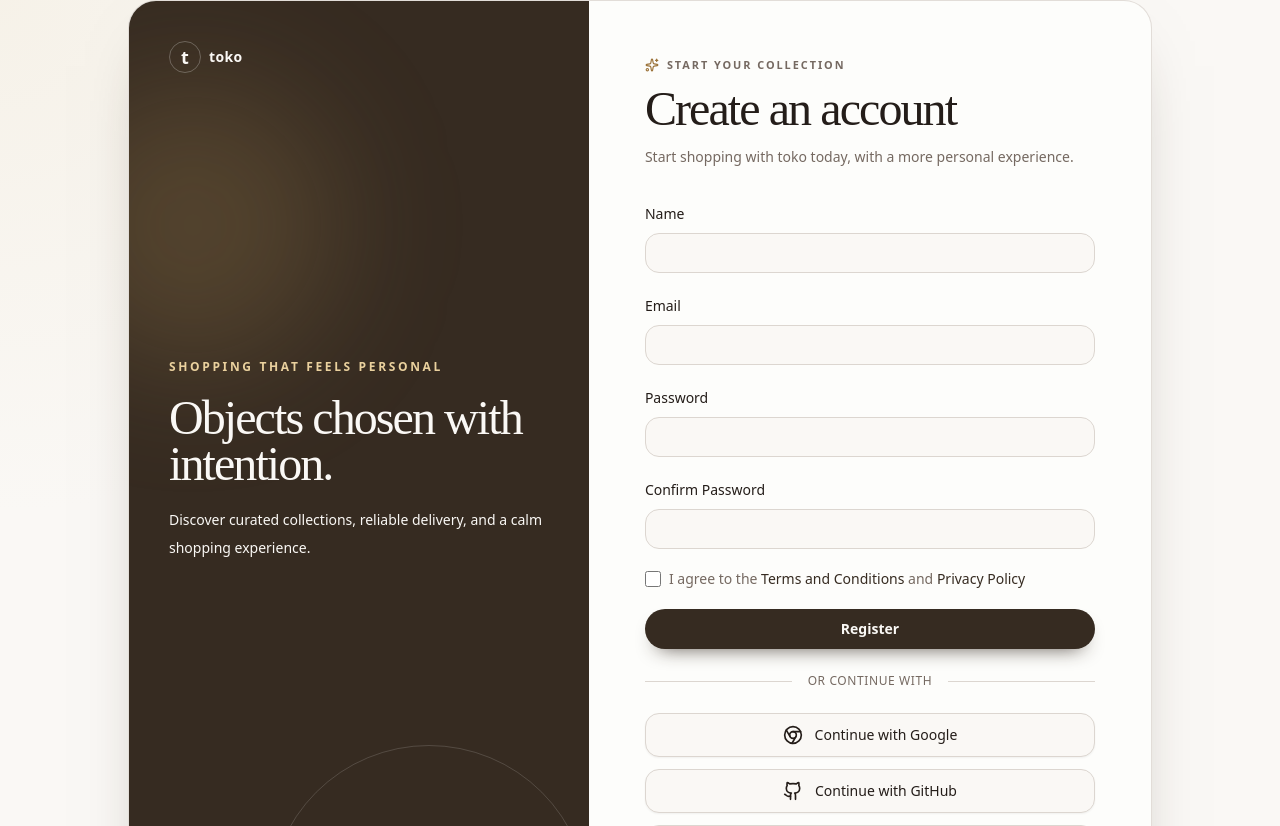
Scenario: auth pages in English › renders register terms links and translated errors
Type "Secure123" into the password field labelled "Password" at x=870, y=437, box [645,417,1095,457]
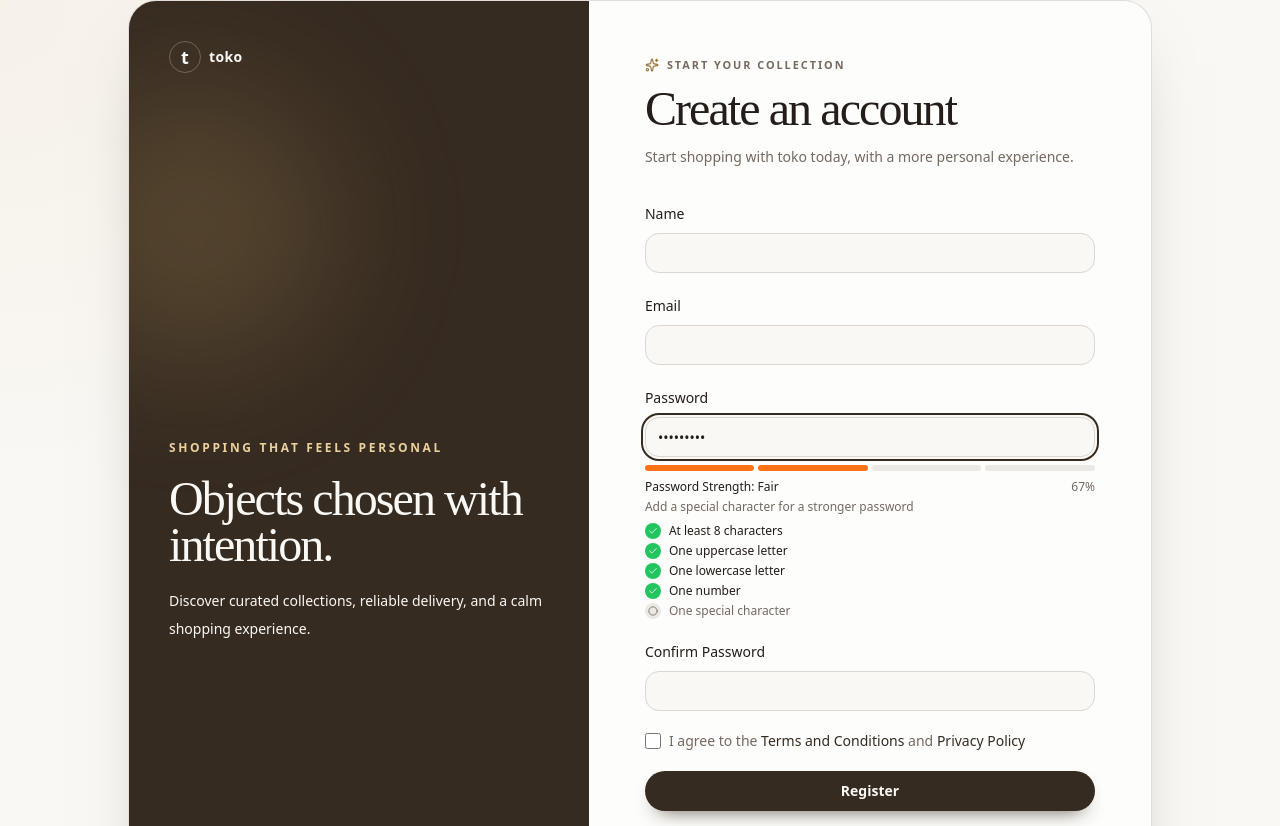
Type "Secure123" into the password field labelled "Confirm Password" at x=870, y=691, box [645,671,1095,711]
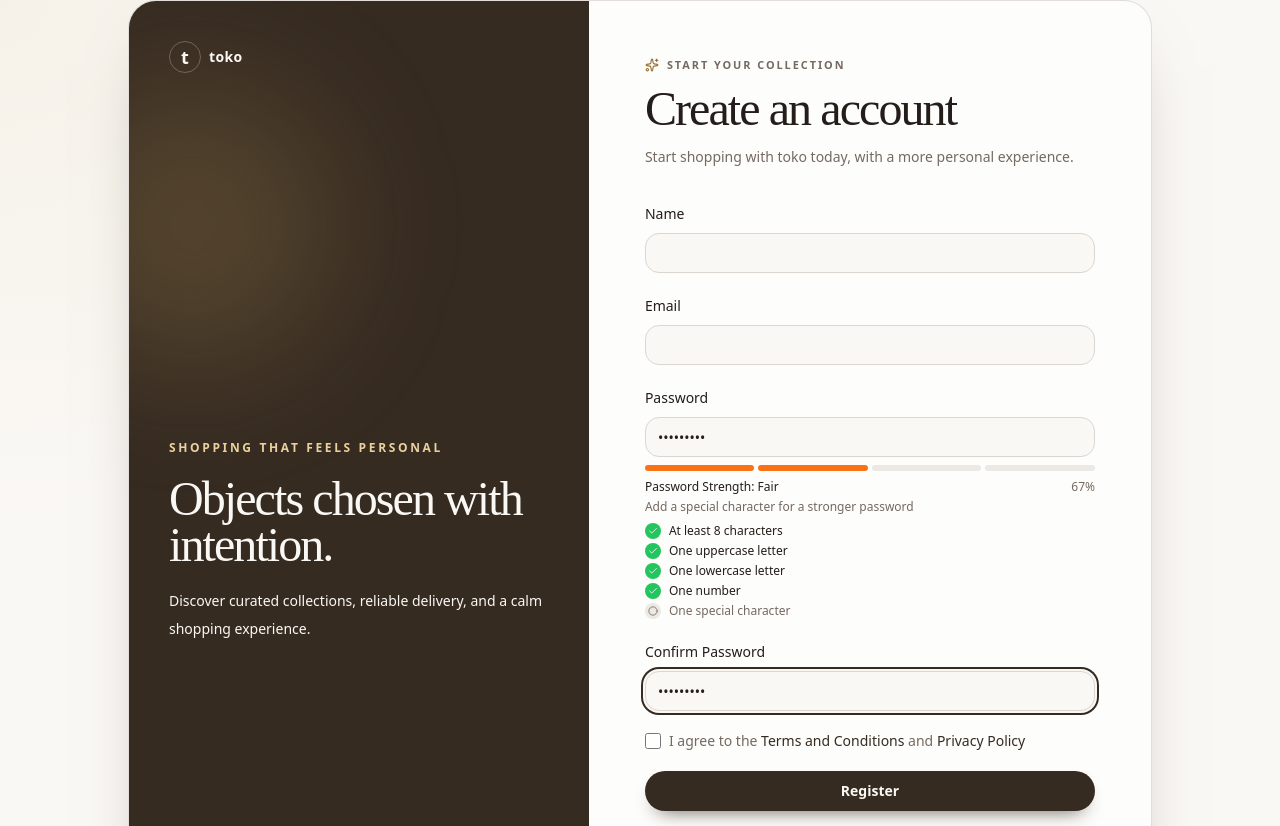
Click the button "Register" at x=870, y=791, box [645,771,1095,811]
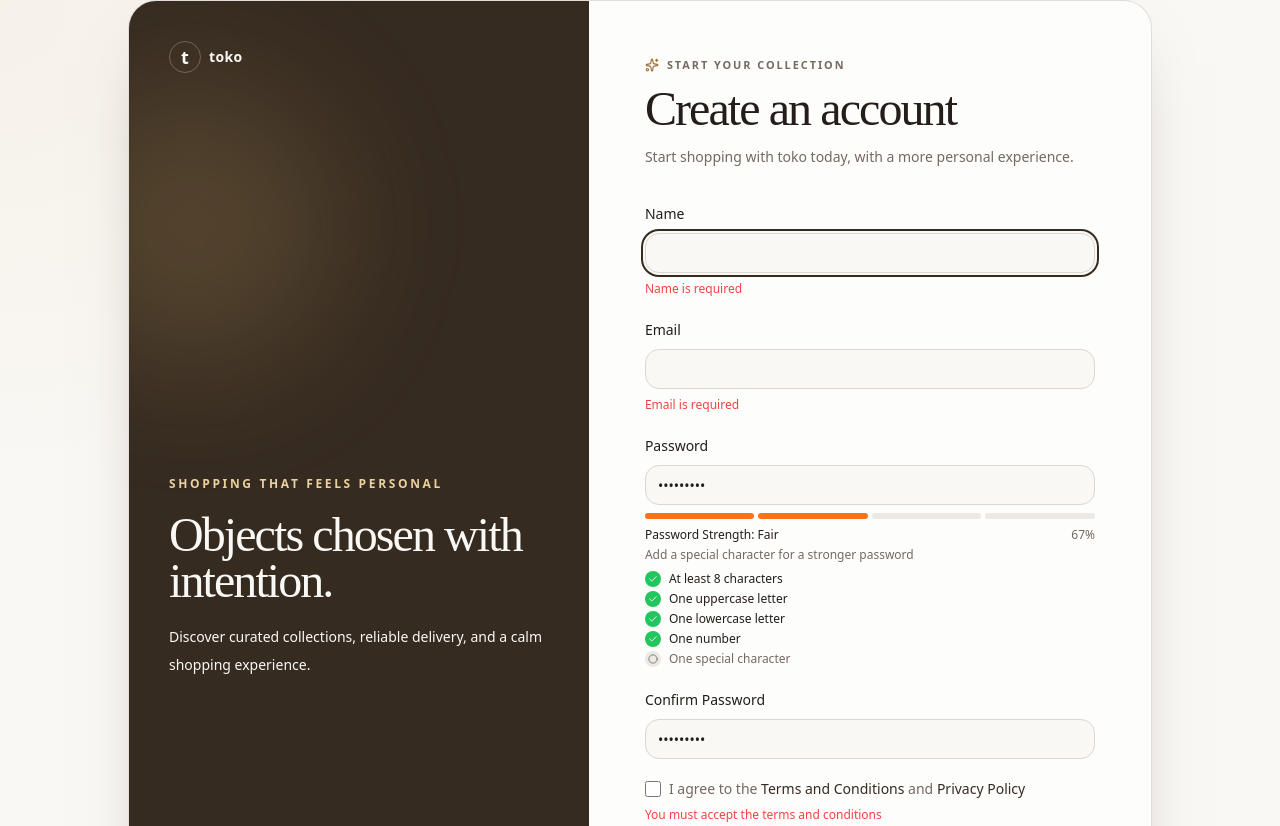
Check: the text "Name is required" is shown, box [645,280,742,297]
Check: the text "You must accept the terms and conditions" is shown, box [645,806,882,823]
